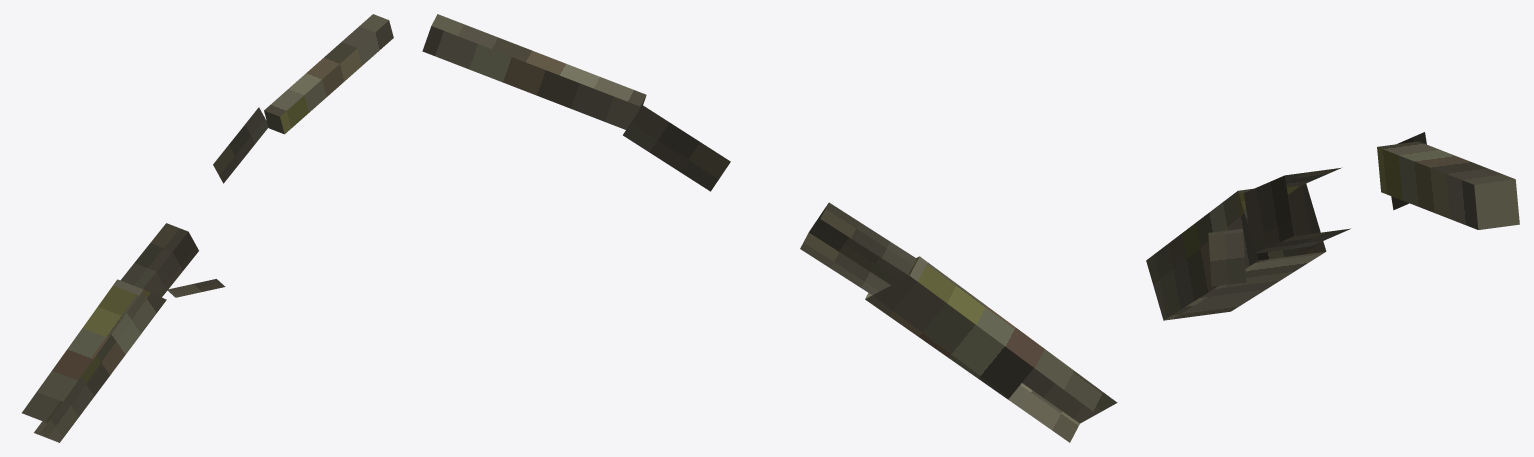
File: larch_twig_branch_up_2.obj
3 renders of one model, left to right at view 1: azimuth 30°, elevation 25°; view 2: azimuth 150°, elevation 25°; view 3: azimuth 270°, elevation 25°, orthographic. The views are drawn at different scales.
Parts seen in each view (by area): view 1: cube; view 2: cube; view 3: cube.
Part boxes in pixels (box(x1,y1,x2,y2)): cube: box(22, 14, 393, 442); cube: box(422, 14, 1117, 442); cube: box(1146, 132, 1519, 320).
Bounding box in the file's own units: 2.34 × 1.34 × 0.8492.
